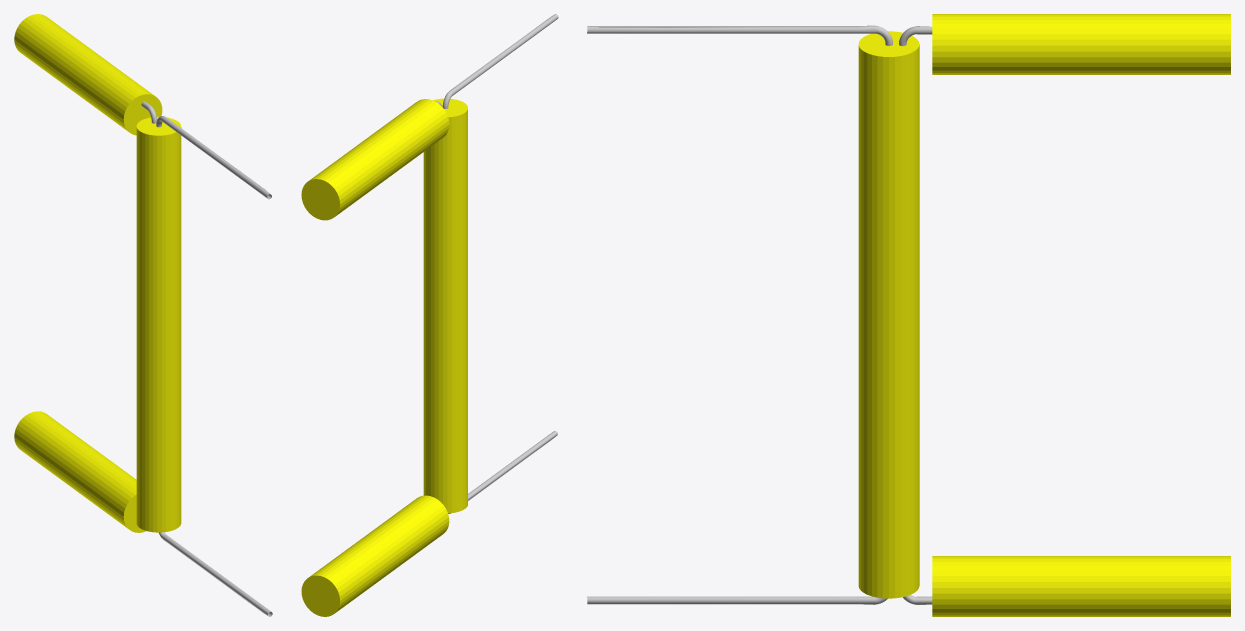
File: Navigate_channel.obj
The picture shows the model from 3 angles, left to right: view 1: azimuth 30°, elevation 25°; view 2: azimuth 150°, elevation 25°; view 3: azimuth 270°, elevation 25°; orthographic projection. The views are drawn at different scales.
Visible parts, largest first — view 1: Cylinder.001, Cylinder.002, Cylinder, Torus, Torus.003; view 2: Cylinder.001, Cylinder.002, Cylinder, Torus, Torus.003; view 3: Cylinder.001, Cylinder, Cylinder.002, Torus.003, Torus.
Part boxes in pixels (box(x1,y1,x2,y2)): Cylinder.001: box(136, 117, 181, 532); Cylinder.002: box(14, 14, 162, 135); Cylinder: box(14, 411, 146, 532); Torus: box(156, 116, 271, 199); Torus.003: box(159, 532, 272, 616); Cylinder.001: box(423, 98, 467, 513); Cylinder.002: box(301, 99, 449, 220); Cylinder: box(301, 495, 449, 616); Torus: box(442, 14, 558, 108); Torus.003: box(448, 431, 557, 513); Cylinder.001: box(858, 31, 919, 598); Cylinder: box(932, 556, 1230, 616); Cylinder.002: box(932, 14, 1230, 74); Torus.003: box(587, 596, 887, 604); Torus: box(587, 25, 892, 45).
Size of the model in its own units: 0.49 by 5.29 by 5.17.
